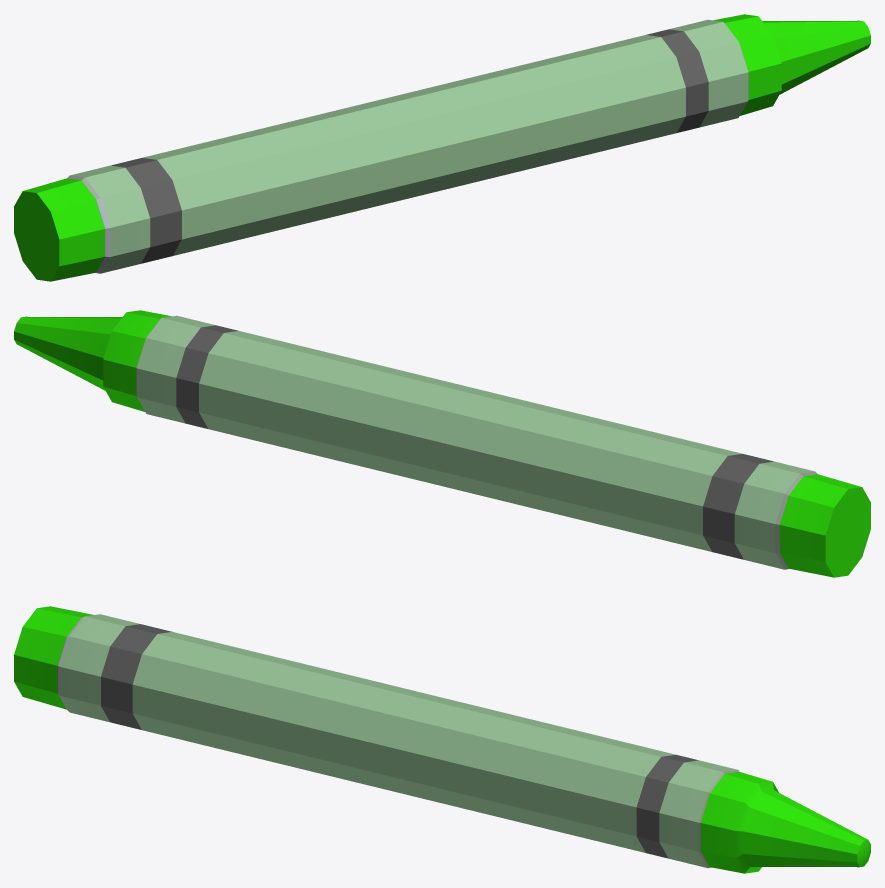
The model's file is Crayon_Green.fbx.
3 views of the same model, one above another, from view 1: azimuth 30°, elevation 25°; view 2: azimuth 150°, elevation 25°; view 3: azimuth 330°, elevation 25° (orthographic).
Parts seen in each view (by area): view 1: pCylinder14; view 2: pCylinder14; view 3: pCylinder14.
Part boxes in pixels (<box>): pCylinder14: <box>14,14,870,281</box>; pCylinder14: <box>14,310,870,577</box>; pCylinder14: <box>14,606,870,873</box>.
Bounding box in the file's own units: 9.4 × 1.02 × 0.9667.
